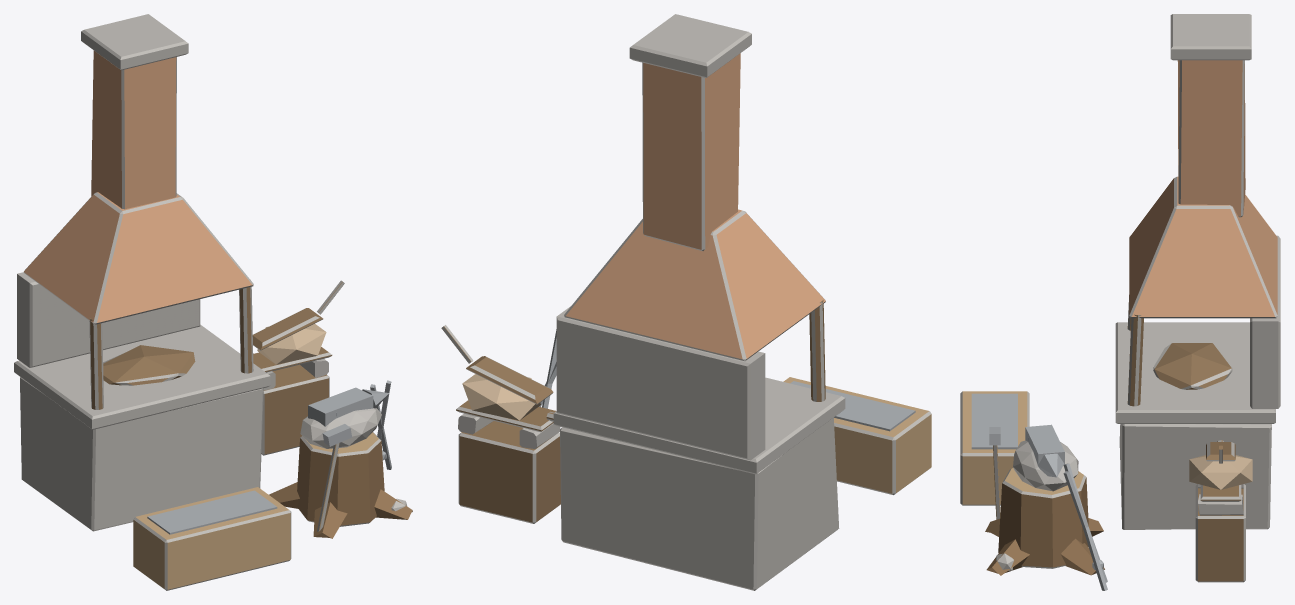
File: w3d_forge_idle.glb
3 views of the same model, side by side, from view 1: azimuth 30°, elevation 25°; view 2: azimuth 150°, elevation 25°; view 3: azimuth 270°, elevation 25° (orthographic). The views are drawn at different scales.
Visible parts, largest first — view 1: w3d_forge_idle; view 2: w3d_forge_idle; view 3: w3d_forge_idle.
Part boxes in pixels (x1=…): w3d_forge_idle: x1=14, y1=14, x2=412, y2=590; w3d_forge_idle: x1=441, y1=14, x2=931, y2=590; w3d_forge_idle: x1=960, y1=14, x2=1280, y2=590.
Bounding box in the file's own units: 1.88 × 2.62 × 1.66.
